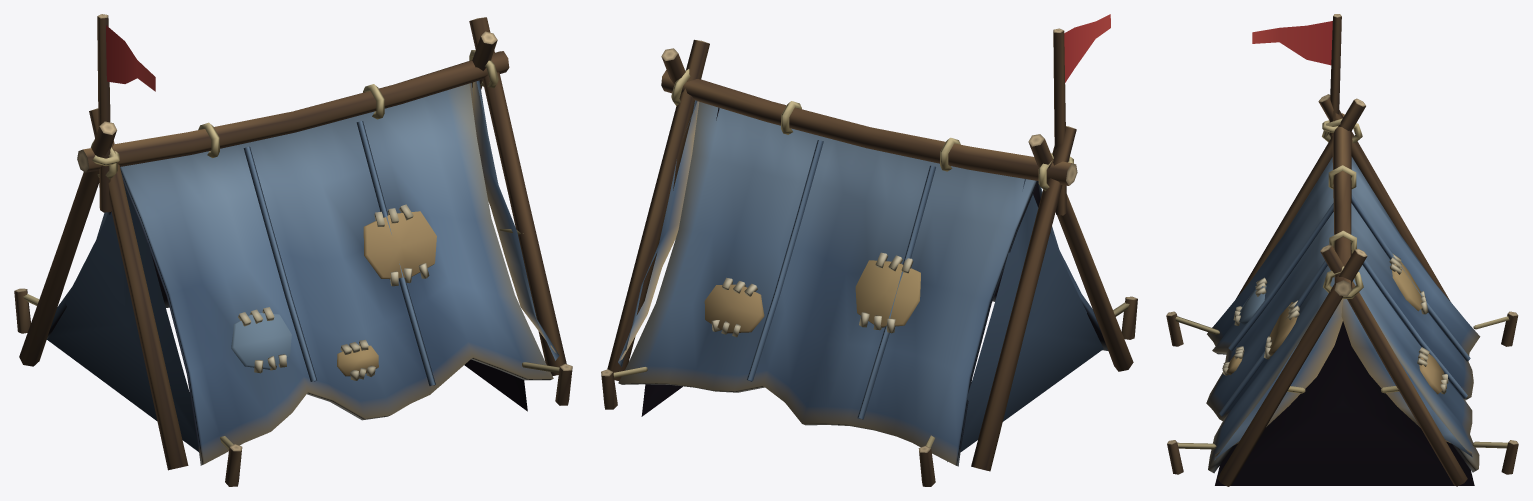
File: prop-siege-tent-v1.glb
The picture shows the model from 3 angles, left to right: view 1: azimuth 30°, elevation 25°; view 2: azimuth 150°, elevation 25°; view 3: azimuth 270°, elevation 25°; orthographic projection. The views are drawn at different scales.
Visible parts, largest first — view 1: body, cloth; view 2: body, cloth; view 3: body, cloth.
Part boxes in pixels (<box>): body: <box>14,14,572,486</box>; cloth: <box>106,25,559,360</box>; body: <box>601,28,1137,486</box>; cloth: <box>618,14,1110,367</box>; body: <box>1166,14,1518,486</box>; cloth: <box>1214,21,1472,460</box>.
Size of the model in its own units: 2.1 by 2.01 by 1.91.
